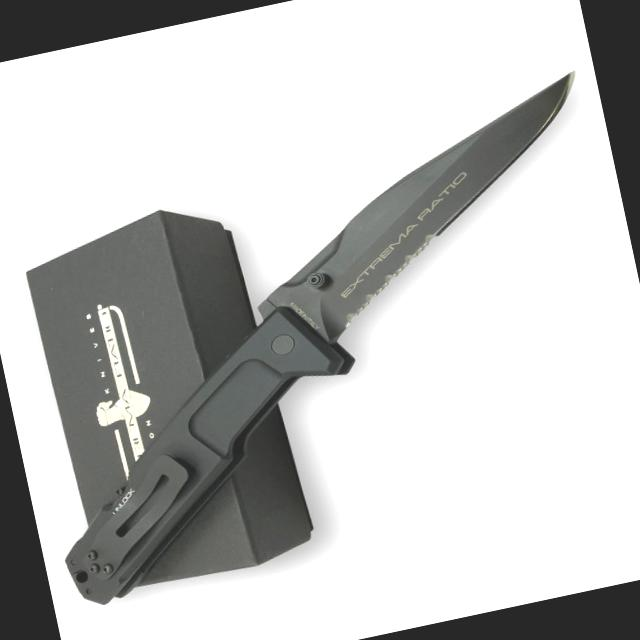knife: (214, 60, 635, 396)
